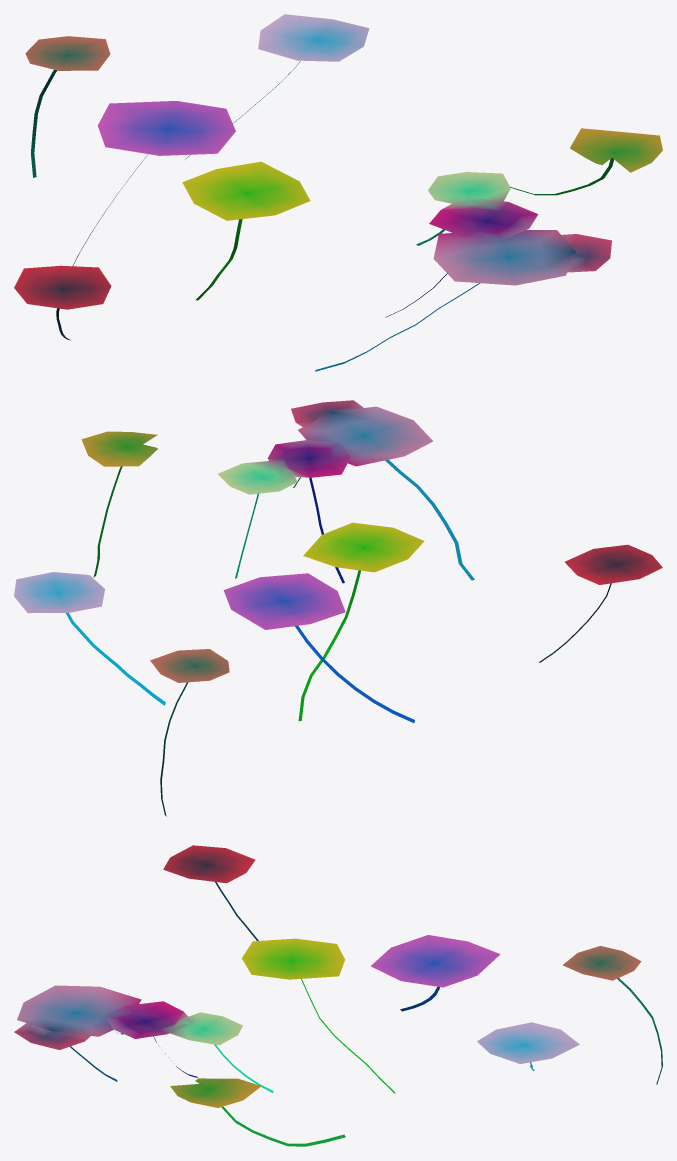
Rendered from Rembrandt_Water_Lily_uc2kajgia_Mid_uc2kajgia_VarA_LOD0.fbx.
3 renders of one model, top to bottom at view 1: azimuth 30°, elevation 25°; view 2: azimuth 150°, elevation 25°; view 3: azimuth 270°, elevation 25°, orthographic. The views are drawn at different scales.
Parts seen in each view (by area): view 1: _7f0b_VarA_LOD1; view 2: _7f0b_VarA_LOD1; view 3: _7f0b_VarA_LOD1.
Part boxes in pixels (x1,y1,x2,y2): _7f0b_VarA_LOD1: (14,14,662,371); _7f0b_VarA_LOD1: (14,400,662,816); _7f0b_VarA_LOD1: (14,845,662,1146).
Size of the model in its own units: 121 by 28.42 by 126.
